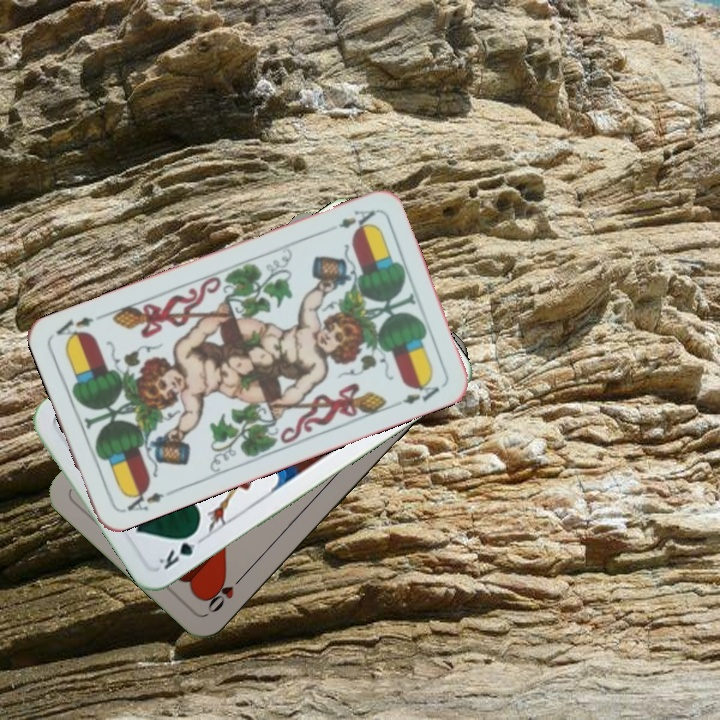EA: (119, 483, 167, 515), (335, 205, 379, 234)
GK: (154, 526, 201, 573)
HO: (203, 569, 249, 616)
